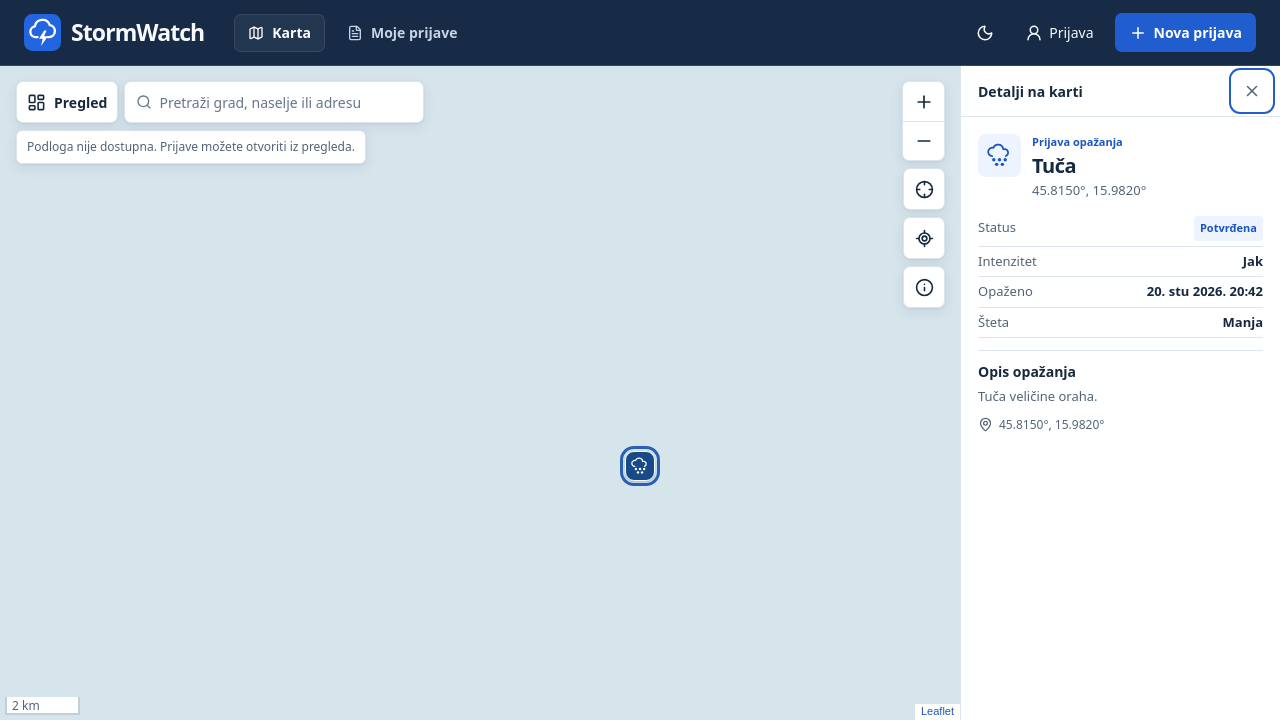
Test case: karta, pojedinačni markeri i paneli › odabir prijave u popisu otvara panel s detaljima i označava marker; zatvaranje ga uklanja
The width and height of the screenshot is (1280, 720).
Earlier steps of the test are not shown.
Expected: the heading "Tuča" is shown, [1032, 152, 1076, 178]
Expected: the text "Potvrđena" is shown, [1194, 216, 1263, 240]
Click the button named "Zatvori detalje": (1252, 91) [1234, 73, 1270, 109]
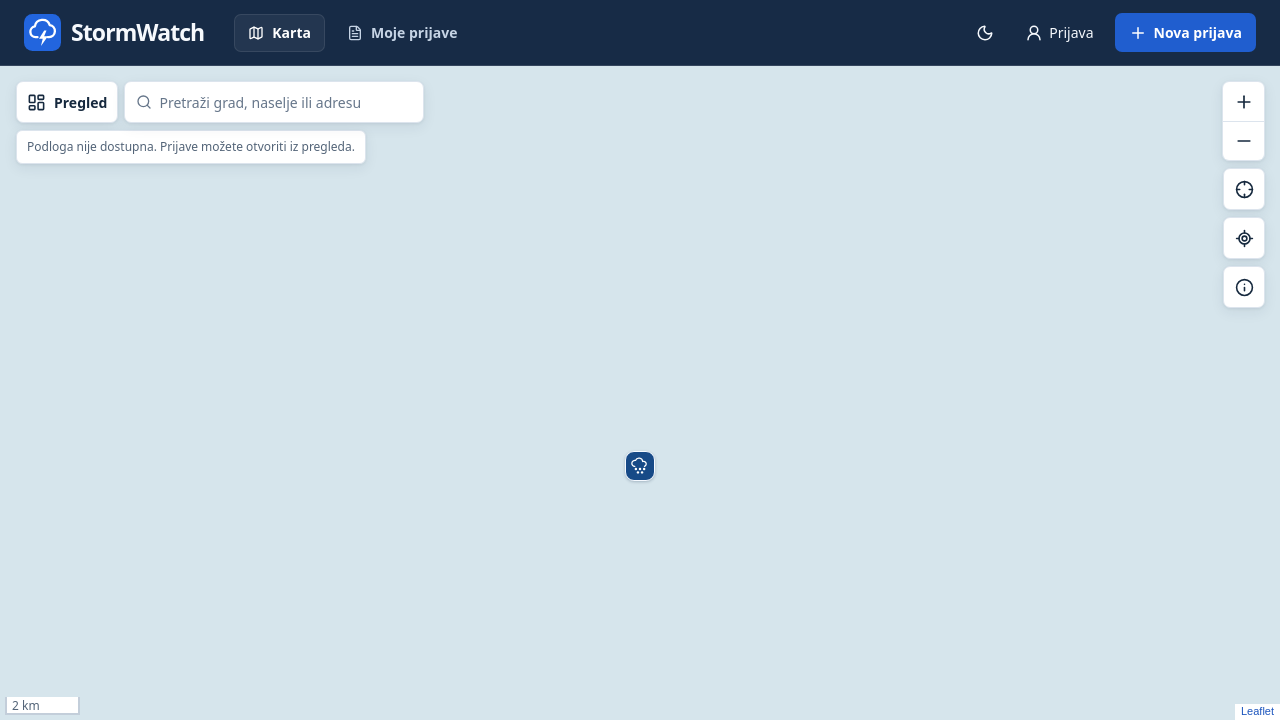
Result: the element with class "detail" is gone
